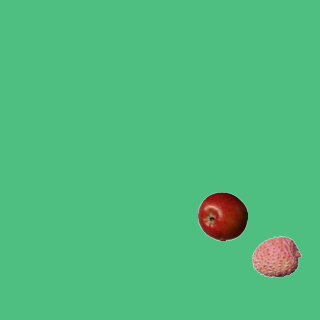Apple Braeburn: (197, 191, 247, 241)
Lychee: (251, 231, 301, 281)
